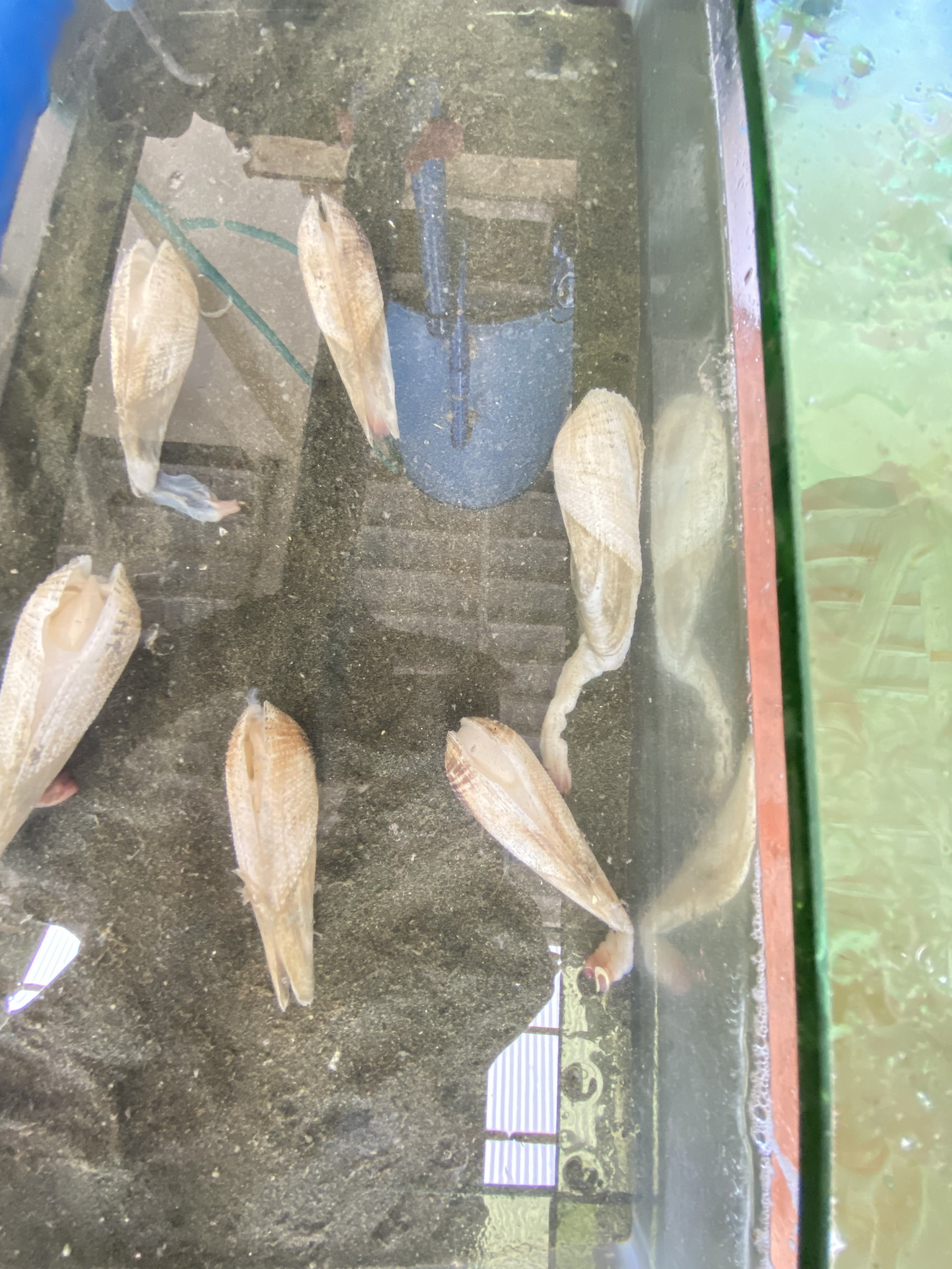At risk: (445, 718, 634, 991), (0, 556, 140, 854), (541, 390, 643, 793), (111, 239, 238, 519), (225, 693, 319, 1010), (298, 194, 399, 444), (36, 771, 77, 807)
